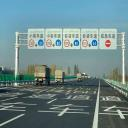speed_limit_100: (63, 38, 70, 49), (46, 38, 52, 48)
speed_limit_120: (28, 38, 34, 47)
speed_limit_80: (81, 39, 89, 48)
